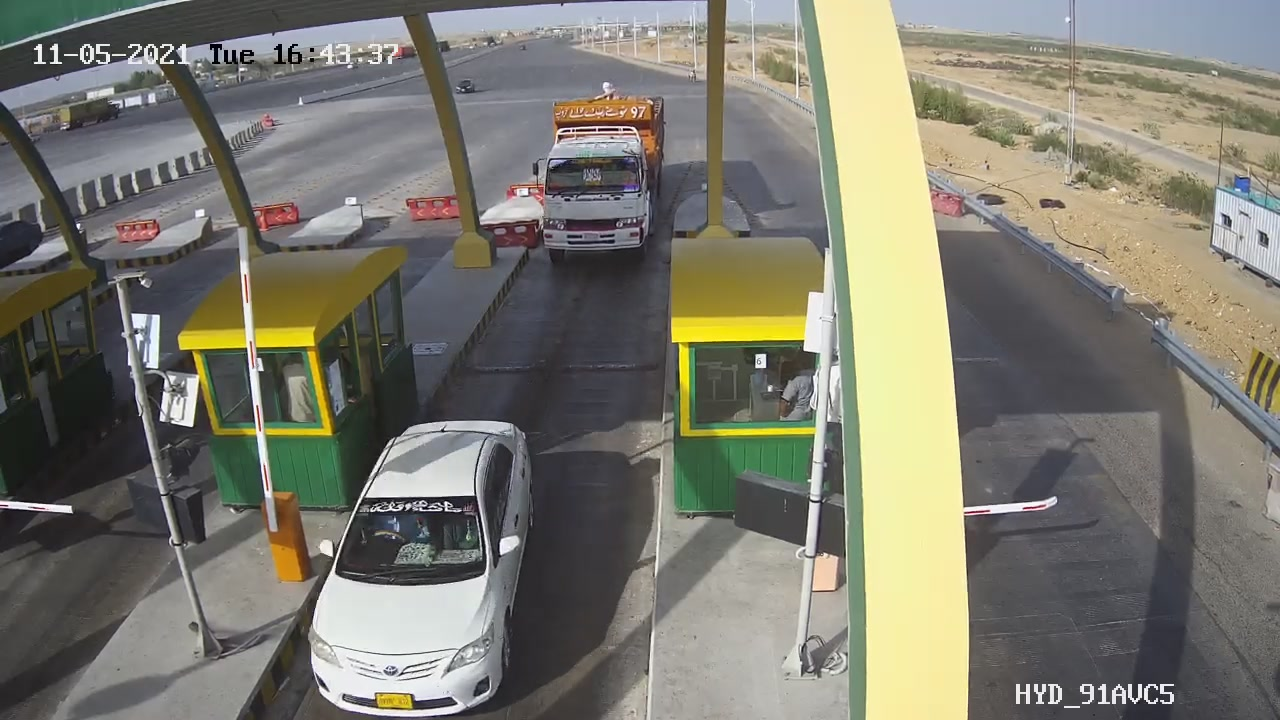F6: (511, 71, 683, 276)
